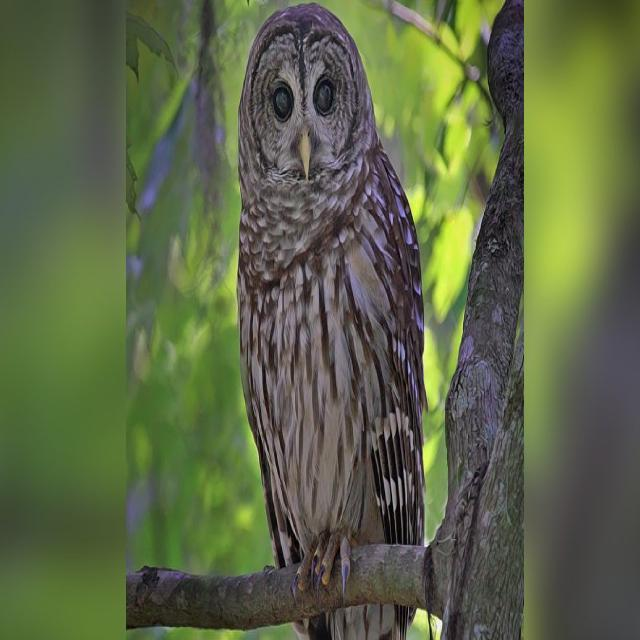Owl: (231, 2, 427, 640)
